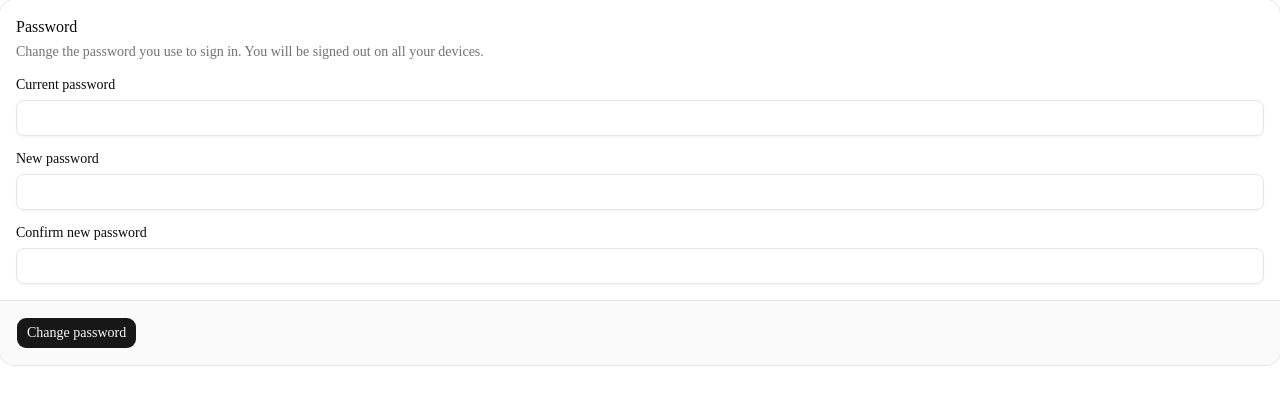
Test case: PasswordCard › a too-short new password never reaches the endpoint
Type "s3cret-password" into the password field labelled "Current password" at (640, 118), box [16,100,1264,136]
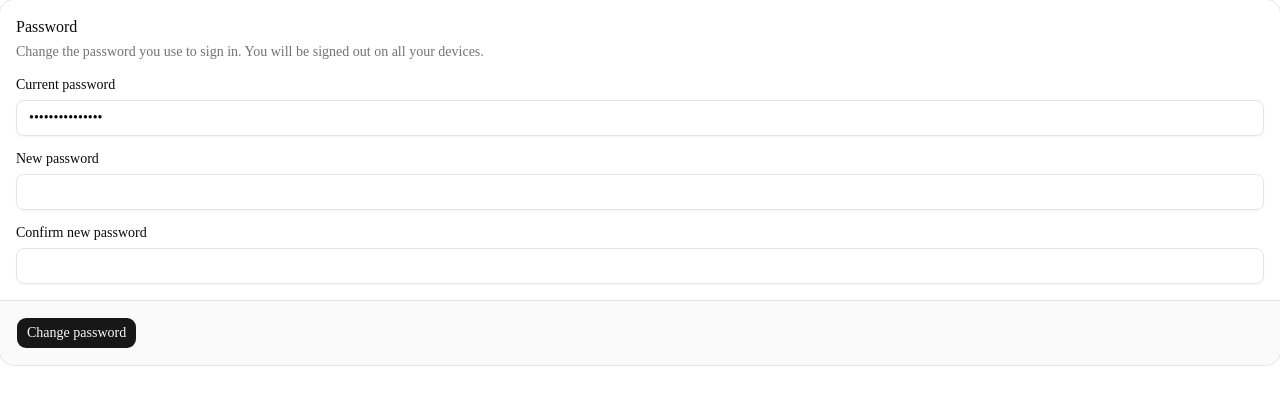
Type "short" into the password field labelled "New password" at (640, 192), box [16,174,1264,210]
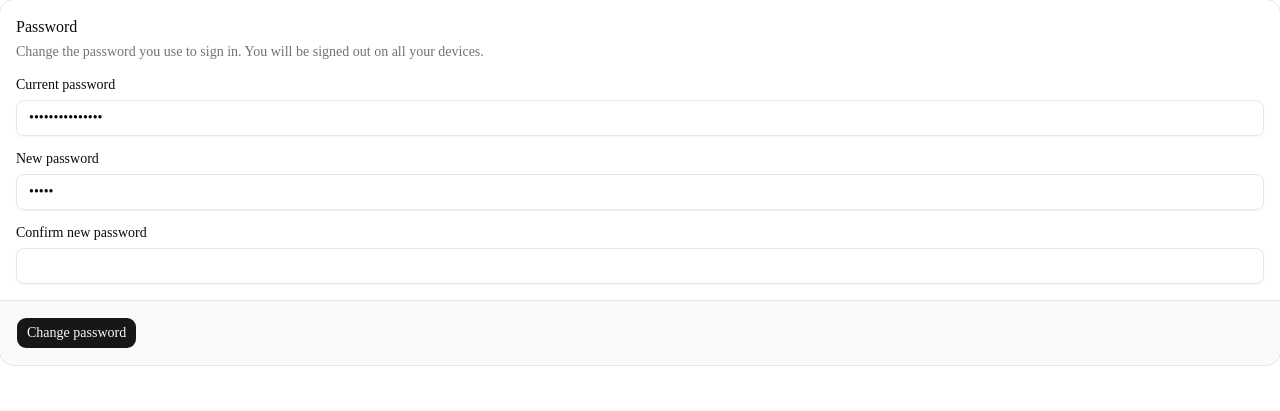
Type "short" into the password field labelled "Confirm new password" at (640, 266), box [16,248,1264,284]
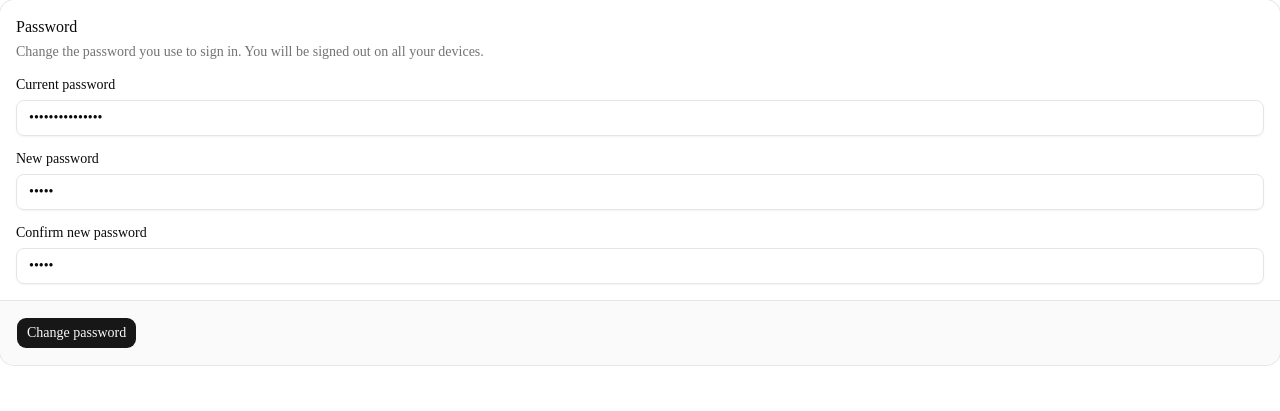
Click the button "Change password" at (77, 333), box [16,317,137,349]
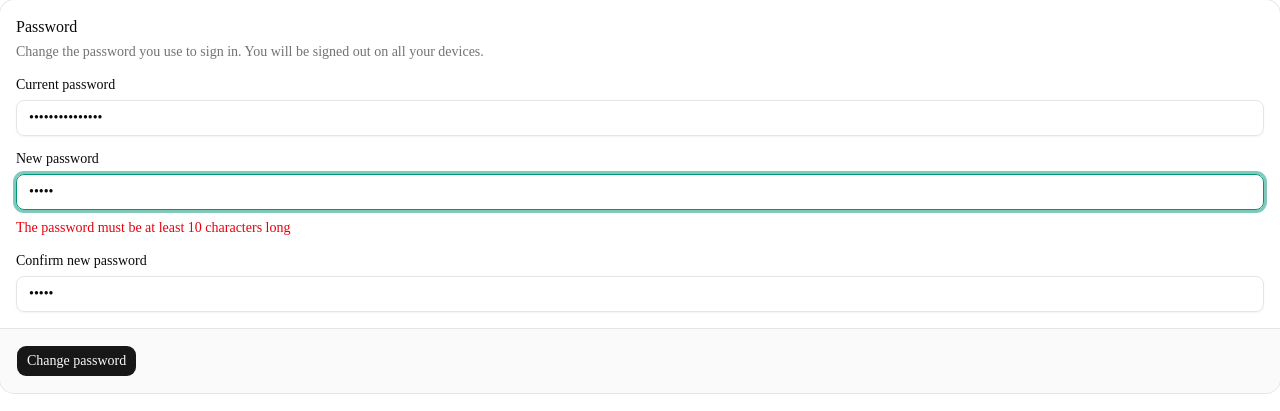
expect the text "The password must be at least 10 characters long" is shown: met, box [16,220,290,235]
